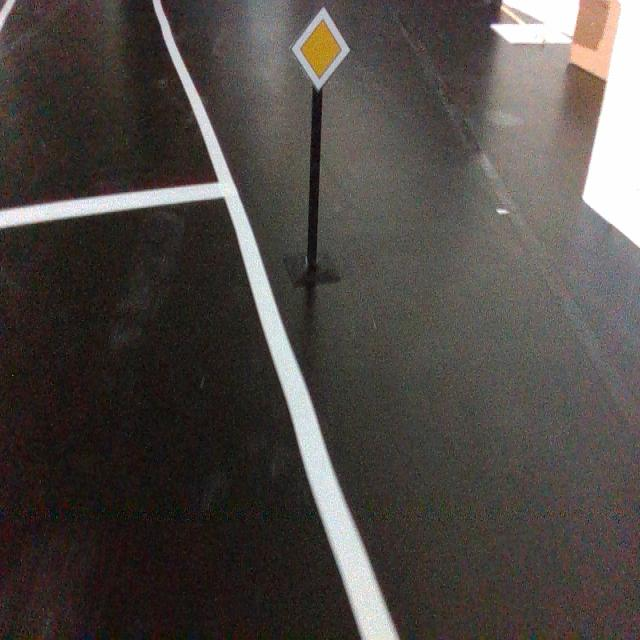priority-sign: (290, 5, 352, 93)
